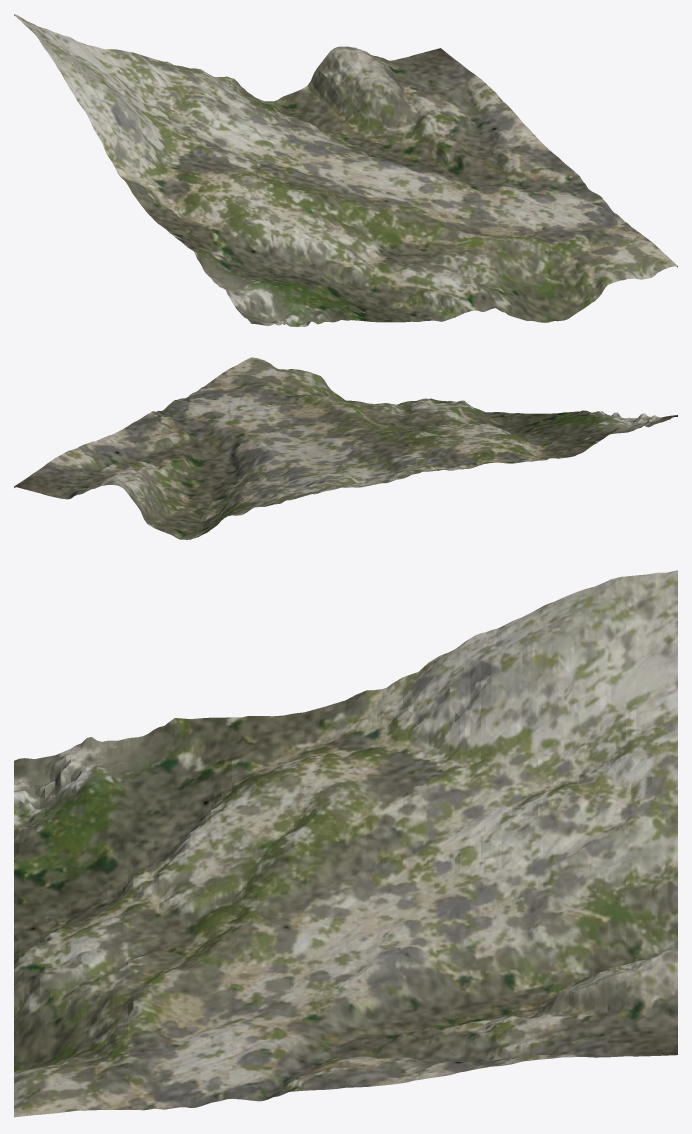
The picture shows the model from 3 angles, top to bottom: view 1: azimuth 30°, elevation 25°; view 2: azimuth 150°, elevation 25°; view 3: azimuth 270°, elevation 25°; orthographic projection. The views are drawn at different scales.
Bounding box in the file's own units: 250 × 118 × 241.
1 material, 1 textured.
